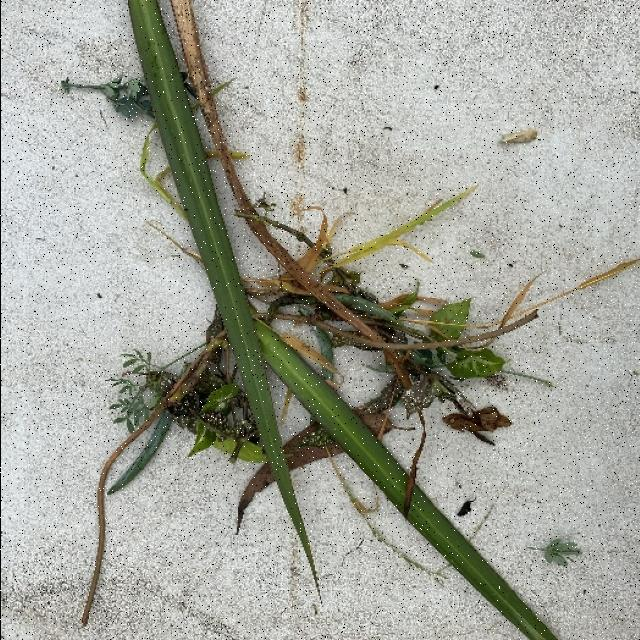organik: (80, 0, 572, 640)
